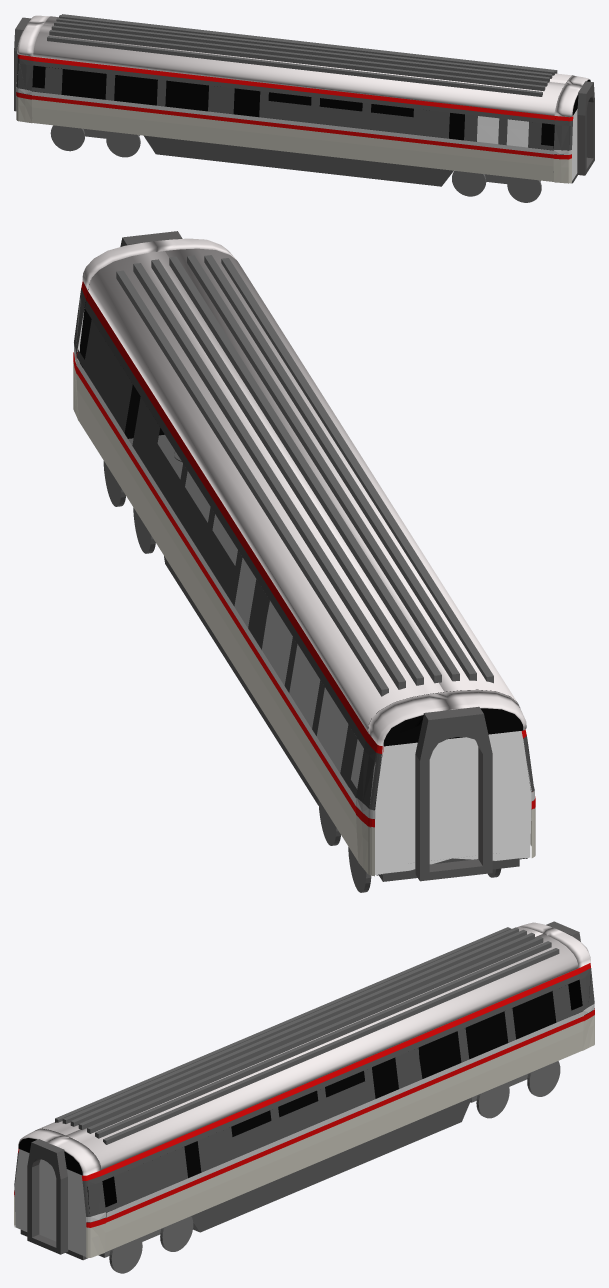
The model's file is br-mk4-rsb-ic.dae.
The picture shows the model from 3 angles, top to bottom: view 1: azimuth 30°, elevation 25°; view 2: azimuth 150°, elevation 25°; view 3: azimuth 270°, elevation 25°; orthographic projection. The views are drawn at different scales.
Parts seen in each view (by area): view 1: Plane_134, Suzanne_001, Plane_111, Cube, Cube_002, Cube_003, Cube_004, Plane_136, Plane_135, Plane_161, Cube_008, Plane_123 (+24 smaller); view 2: Suzanne_001, Plane_001, Plane_007, Plane_002, Tube_003, Cube_010, Cube_008, Cube_009, Cube_011, Cube_004, Cube_002, Cube_003 (+12 smaller); view 3: Plane_007, Suzanne_001, Plane_111, Cube, Cube_010, Plane_100, Cube_009, Cube_008, Cube_011, Cube_004, Plane_153, Tube_002 (+17 smaller).
Boxes of the visible parts, box(x1,y1,x2,y2) form: Plane_134: box(32, 99, 553, 181); Suzanne_001: box(33, 16, 572, 115); Plane_111: box(32, 65, 563, 154); Cube: box(144, 135, 453, 186); Cube_002: box(49, 30, 545, 91); Cube_003: box(47, 36, 542, 96); Cube_004: box(51, 25, 547, 86); Plane_136: box(33, 61, 554, 124); Plane_135: box(33, 57, 555, 120); Plane_161: box(259, 91, 418, 135); Cube_008: box(54, 21, 549, 82); Plane_123: box(31, 91, 553, 154); Suzanne_001: box(88, 248, 518, 732); Plane_001: box(375, 731, 531, 874); Plane_007: box(76, 374, 358, 861); Plane_002: box(128, 434, 496, 870); Tube_003: box(415, 706, 492, 881); Cube_010: box(133, 263, 405, 689); Cube_008: box(169, 256, 441, 683); Cube_009: box(151, 259, 423, 685); Cube_011: box(116, 270, 388, 696); Cube_004: box(187, 255, 459, 681); Cube_002: box(204, 255, 476, 680); Cube_003: box(221, 258, 493, 683); Plane_007: box(105, 1021, 583, 1252); Suzanne_001: box(37, 927, 577, 1169); Plane_111: box(184, 991, 554, 1178); Cube: box(191, 1097, 472, 1232); Cube_010: box(95, 941, 551, 1138); Plane_100: box(14, 1149, 86, 1256); Cube_009: box(87, 936, 543, 1133); Cube_008: box(78, 932, 534, 1129); Cube_011: box(103, 948, 559, 1144); Cube_004: box(70, 929, 526, 1126); Plane_153: box(100, 969, 578, 1175); Tube_002: box(27, 1139, 68, 1254).
Bounding box in the file's own units: 10.52 × 10.52 × 2.81.
